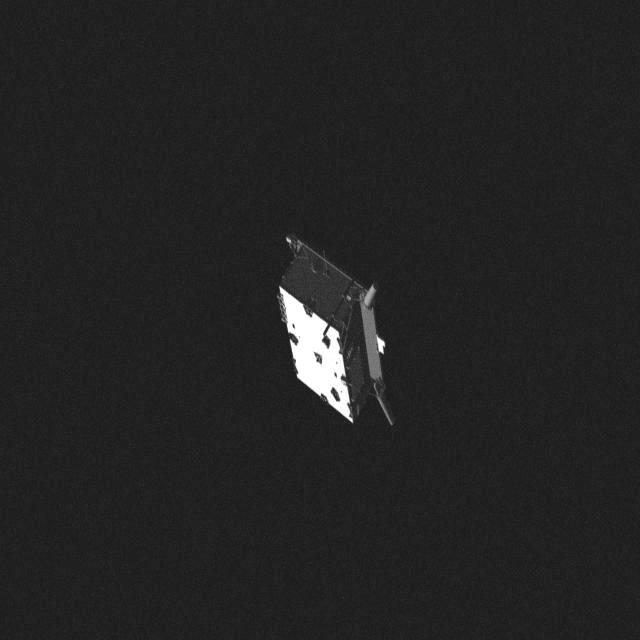satellite: (262, 228, 408, 446)
